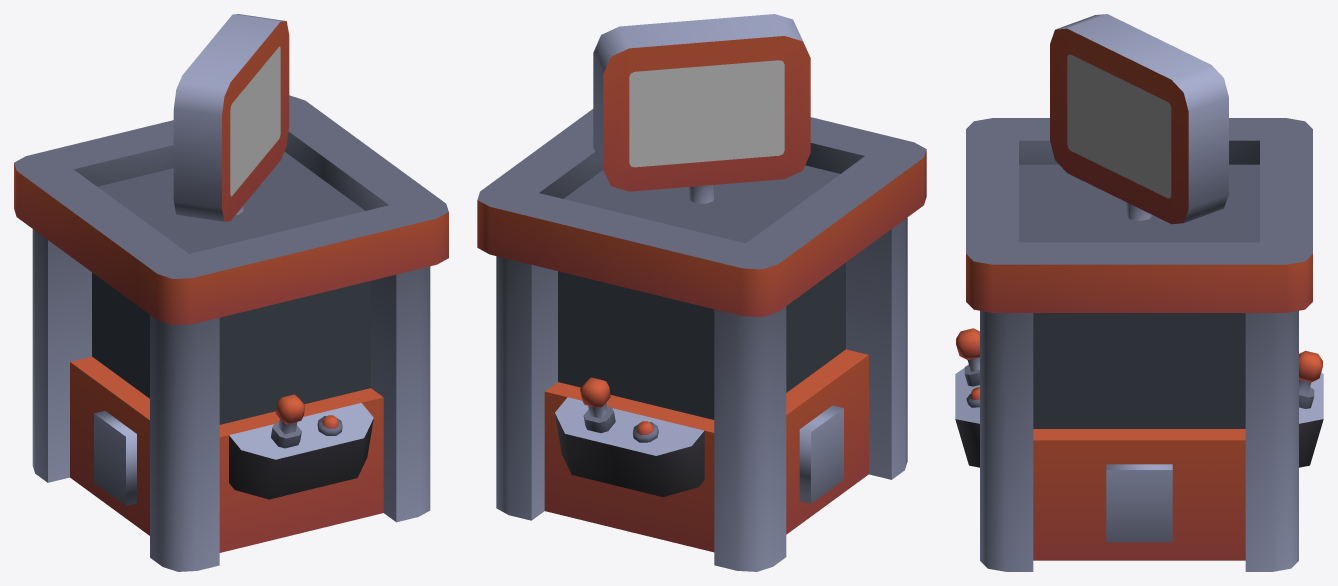
File: claw.fbx
3 views of the same model, side by side, from view 1: azimuth 30°, elevation 25°; view 2: azimuth 150°, elevation 25°; view 3: azimuth 270°, elevation 25° (orthographic). The views are drawn at different scales.
Visible parts, largest first — view 1: claw-machine; view 2: claw-machine; view 3: claw-machine.
Part boxes in pixels (box(x1,y1,x2,y2)): claw-machine: box(14, 14, 448, 571); claw-machine: box(477, 14, 926, 571); claw-machine: box(955, 14, 1323, 571).
Bounding box in the file's own units: 0.6874 × 1 × 0.7297.
